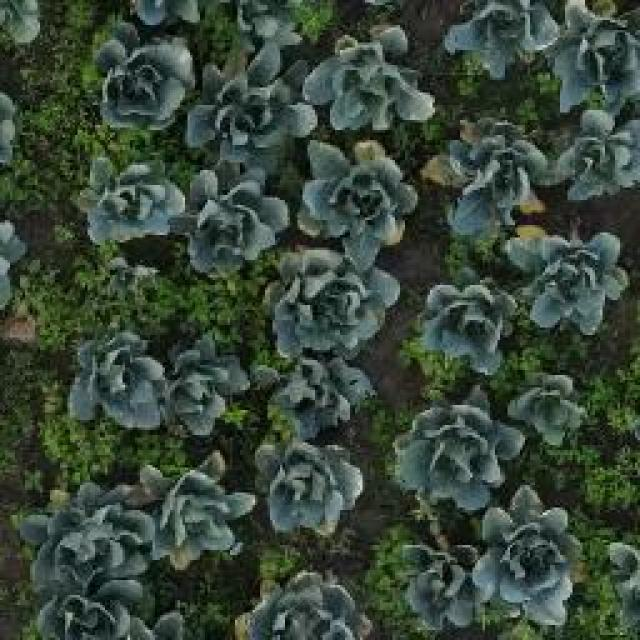cabbage: (254, 249, 397, 355), (394, 395, 521, 506), (241, 344, 374, 444), (405, 265, 517, 383), (254, 434, 375, 542), (58, 320, 168, 438), (285, 140, 395, 258), (512, 226, 631, 333), (479, 494, 583, 614), (175, 166, 291, 262), (190, 65, 303, 156), (436, 115, 532, 218), (394, 529, 488, 633), (233, 567, 368, 639), (42, 497, 144, 588), (82, 159, 184, 246), (318, 37, 418, 125), (160, 344, 256, 433), (155, 470, 236, 564), (90, 40, 184, 120), (560, 10, 640, 98), (442, 0, 547, 62), (557, 113, 640, 191), (508, 370, 593, 442)
